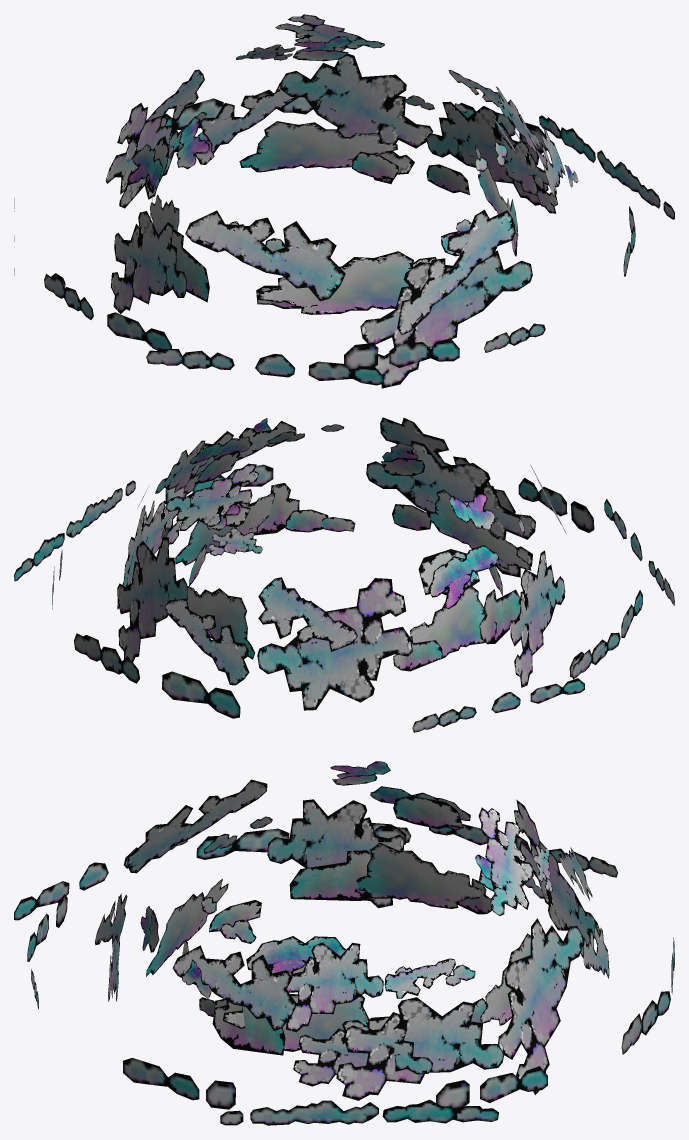
File: objects_un_cloud01.gltf
3 views of the same model, one above another, from view 1: azimuth 30°, elevation 25°; view 2: azimuth 150°, elevation 25°; view 3: azimuth 270°, elevation 25° (orthographic). The views are drawn at different scales.
Parts seen in each view (by area): view 1: objects_un_cloud01; view 2: objects_un_cloud01; view 3: objects_un_cloud01.
Boxes of the visible parts, x1,y1,x2,y2 form: objects_un_cloud01: (14, 14, 674, 388); objects_un_cloud01: (14, 417, 674, 732); objects_un_cloud01: (14, 761, 674, 1125).
Size of the model in its own units: 14597 by 5509 by 13938.
1 material, 1 textured.
